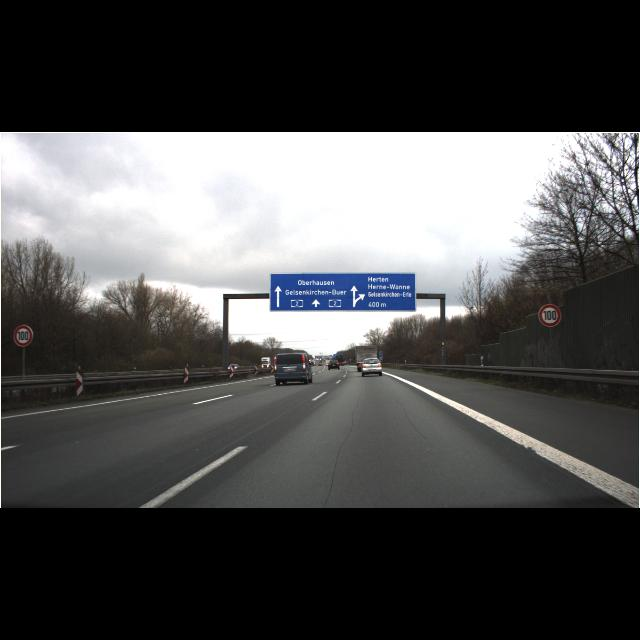prohibitory: (538, 304, 562, 328), (13, 326, 32, 346)
